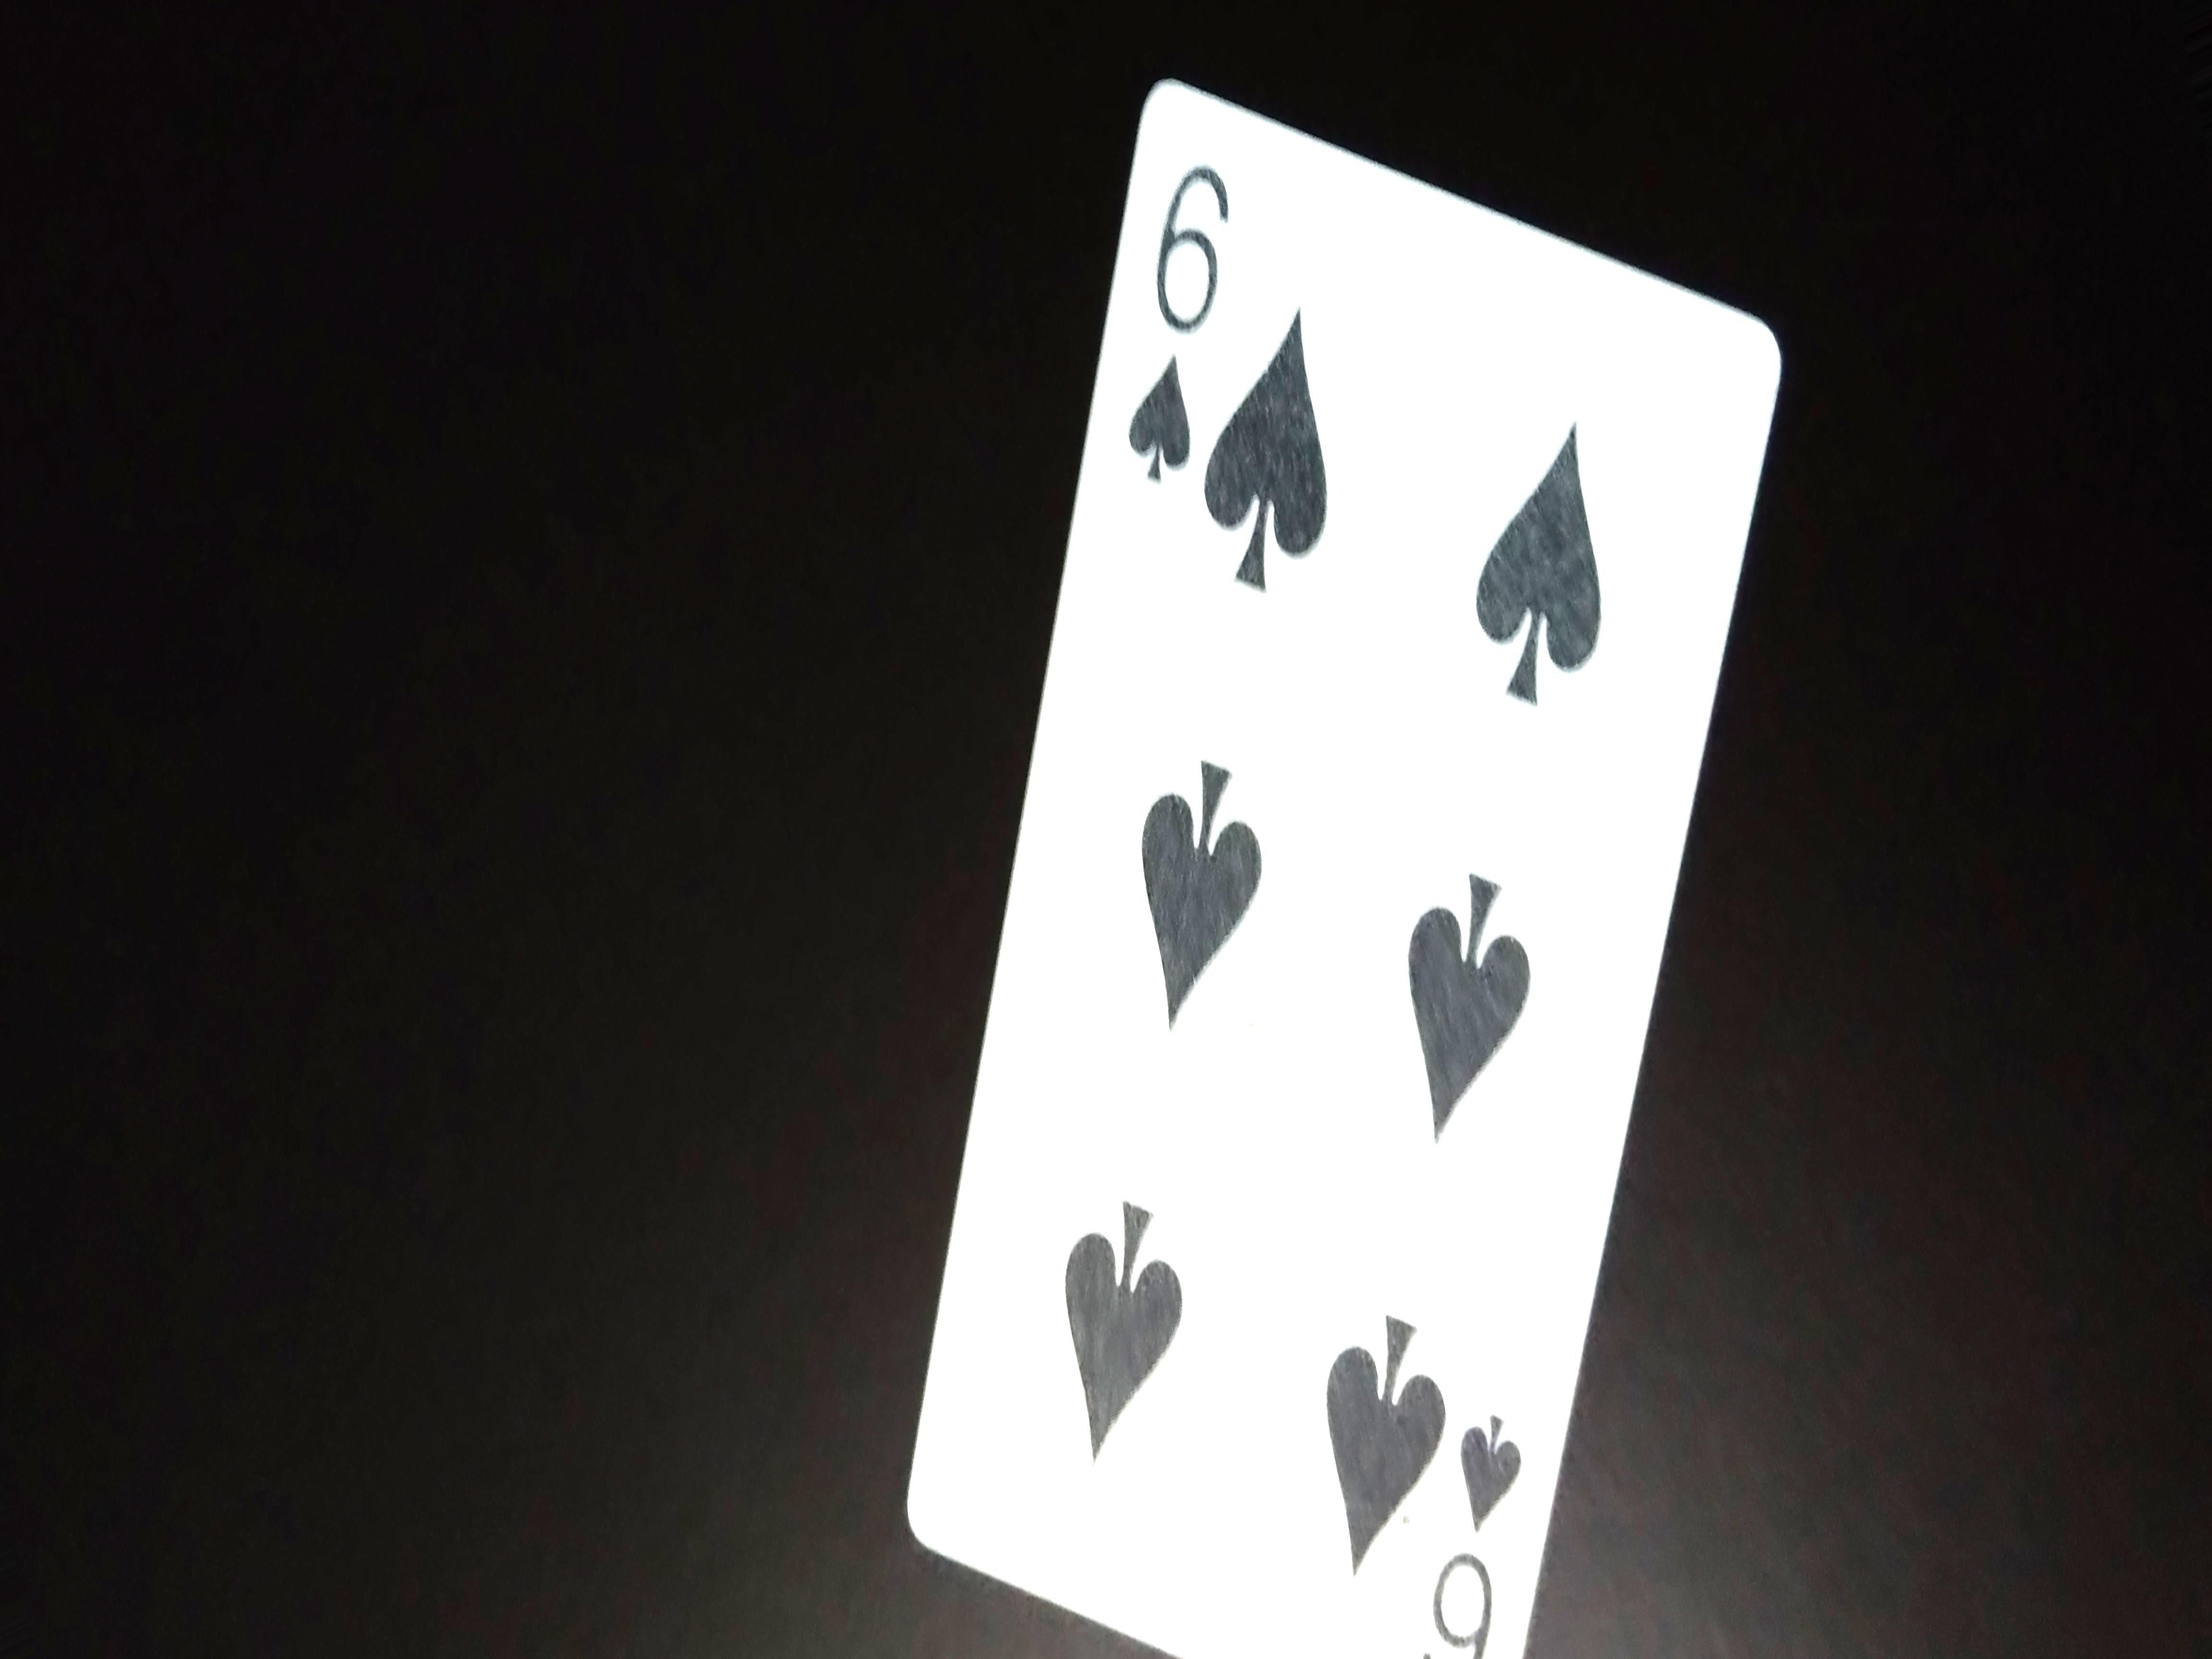6S: (1134, 106, 1244, 532)
